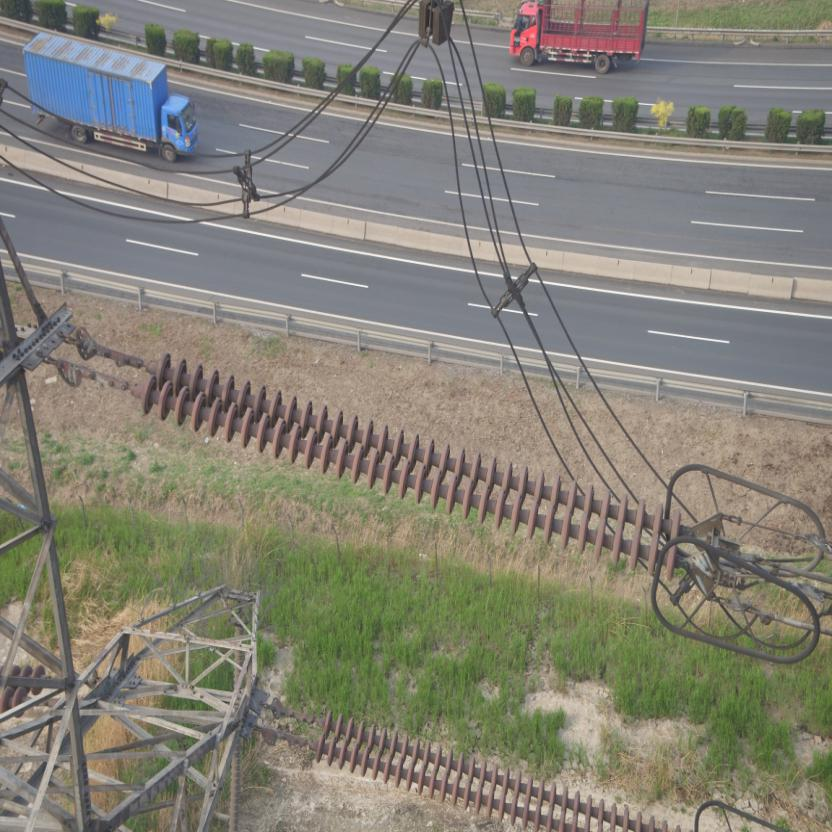insulator: (104, 346, 696, 586), (293, 710, 699, 831), (0, 664, 47, 713)
